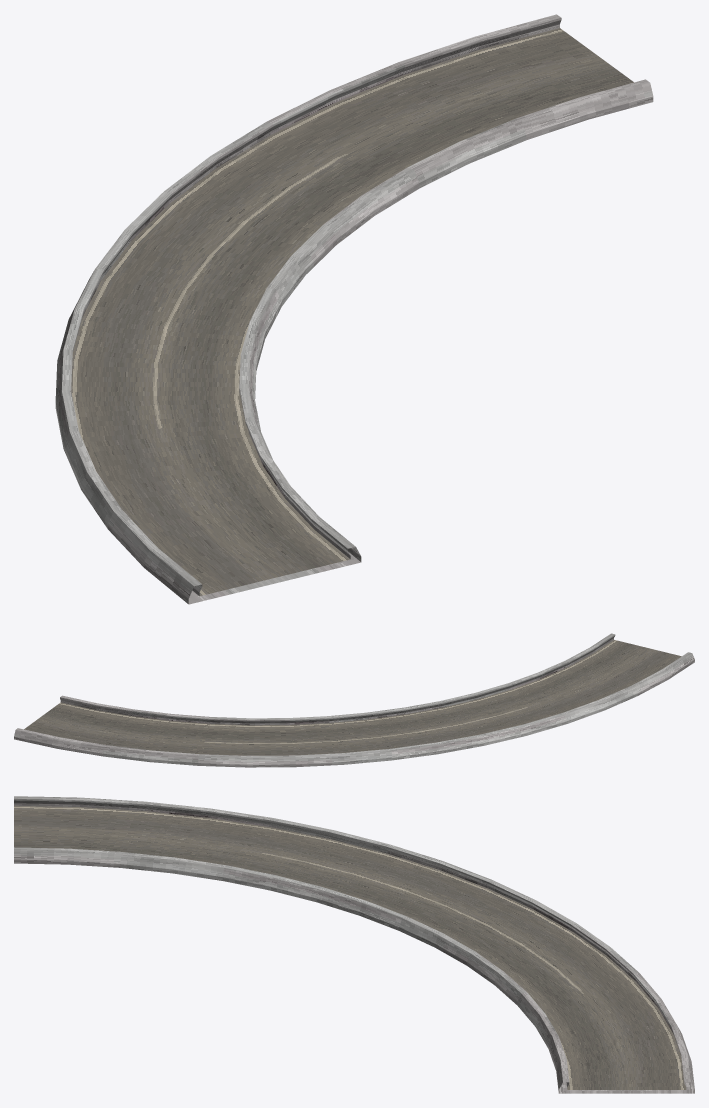
File: road-Turn-Flat-Flat-Even-Right-Size5.glb
3 views of the same model, one above another, from view 1: azimuth 30°, elevation 25°; view 2: azimuth 150°, elevation 25°; view 3: azimuth 270°, elevation 25° (orthographic). The views are drawn at different scales.
Parts seen in each view (by area): view 1: road-Turn-Flat-Flat-Even-Right-Size5; view 2: road-Turn-Flat-Flat-Even-Right-Size5; view 3: road-Turn-Flat-Flat-Even-Right-Size5.
Part boxes in pixels (bbox=[...]): road-Turn-Flat-Flat-Even-Right-Size5: bbox=[55, 14, 653, 604]; road-Turn-Flat-Flat-Even-Right-Size5: bbox=[14, 633, 694, 767]; road-Turn-Flat-Flat-Even-Right-Size5: bbox=[14, 796, 694, 1093].
Bounding box in the file's own units: 5 × 0.0938 × 5.
Materials: 2 (2 with a texture image).
